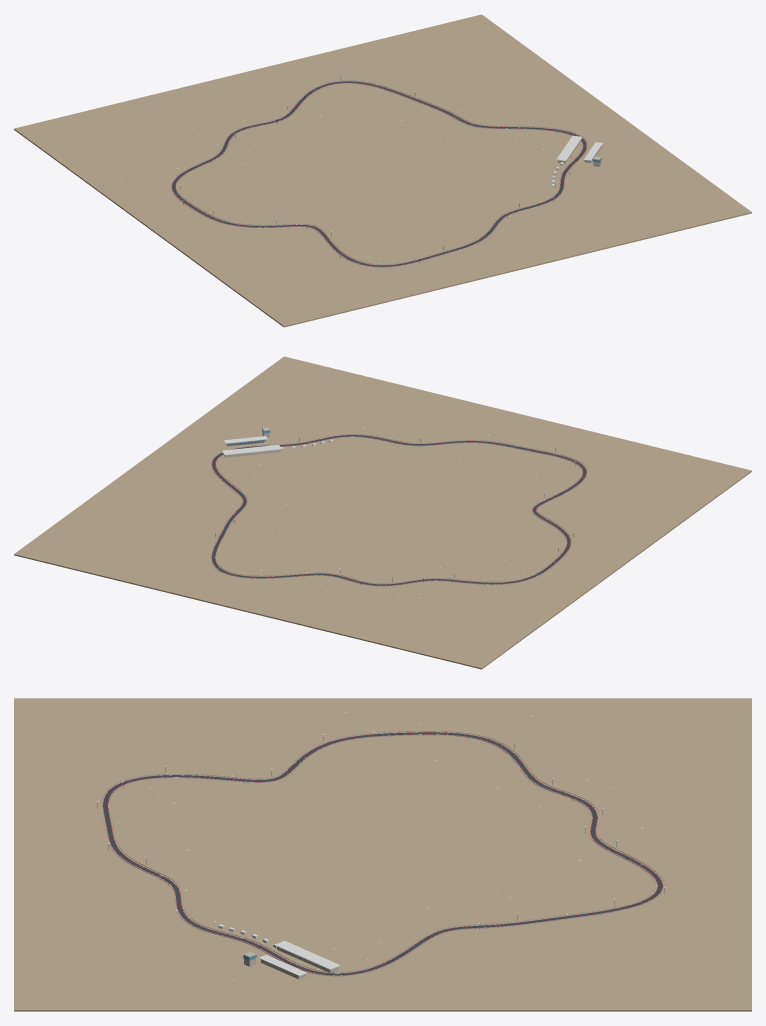
Rendered from sakhir-horizon.glb.
3 views of the same model, one above another, from view 1: azimuth 30°, elevation 25°; view 2: azimuth 150°, elevation 25°; view 3: azimuth 270°, elevation 25° (orthographic). The views are drawn at different scales.
Parts seen in each view (by area): view 1: Terreno-sakhir-horizon, Asfalto-sakhir-horizon, Proteccion-1, Proteccion--1; view 2: Terreno-sakhir-horizon, Asfalto-sakhir-horizon, Proteccion-1, Proteccion--1; view 3: Terreno-sakhir-horizon, Asfalto-sakhir-horizon, Proteccion--1, Proteccion-1, Piano-1, Piano--1, Tribuna-cubierta.
Boxes of the visible parts, box(x1,y1,x2,y2) form: Terreno-sakhir-horizon: box(14, 14, 751, 327); Asfalto-sakhir-horizon: box(172, 81, 586, 266); Proteccion-1: box(171, 80, 586, 267); Proteccion--1: box(178, 83, 580, 264); Terreno-sakhir-horizon: box(14, 356, 751, 669); Asfalto-sakhir-horizon: box(211, 435, 586, 585); Proteccion-1: box(211, 434, 586, 586); Proteccion--1: box(218, 436, 580, 583); Terreno-sakhir-horizon: box(14, 698, 751, 1011); Asfalto-sakhir-horizon: box(103, 732, 662, 975); Proteccion--1: box(110, 734, 655, 972); Proteccion-1: box(101, 731, 663, 976); Piano-1: box(102, 732, 663, 975); Piano--1: box(108, 734, 657, 973); Tribuna-cubierta: box(275, 941, 340, 969).
Bounding box in the file's own units: 2293 × 40.5 × 2293.
